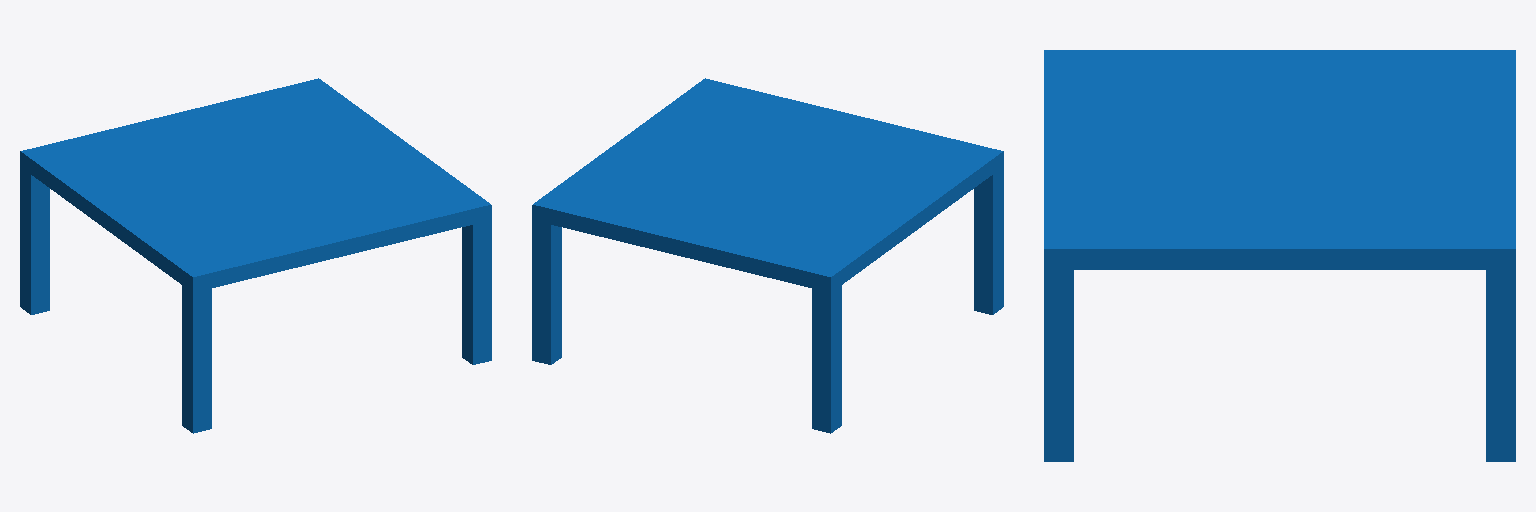
URDF robot description (cube):
<?xml version="0.0" ?>
<robot name="cube">
  <link name="baseLink">
    <contact>
      <lateral_friction value="1.0"/>
      <rolling_friction value="0.0"/>
      <contact_cfm value="0.0"/>
      <contact_erp value="1.0"/>
    </contact>
    <inertial>
      <mass value="5.020"/>
      <origin rpy="0 0 0" xyz="0 0 0"/>
      <inertia ixx="3e-06" ixy="0" ixz="0" iyy="3e-06" iyz="0" izz="3e-06"/>
    </inertial>
    <visual>
      <origin rpy="0 0 0" xyz="0 0 0"/>
      <geometry>
        <mesh filename="mesa4.obj" />
      </geometry>
      <material name="white">
        <color rgba="0.1 0.5 0.8 1"/>
      </material>
    </visual>
    <collision>
      <origin rpy="0 0 0" xyz="0 0 0"/>
      <geometry>
        <mesh filename="mesa4.obj"/>
      </geometry>
    </collision>
  </link>
</robot>

--- What the picture shows (computed from the rendered views, not written in the file) ---
Views: 3 orthographic renders of the robot side by side, from view 1: azimuth 30°, elevation 25°; view 2: azimuth 150°, elevation 25°; view 3: azimuth 270°, elevation 25°.
Model cube with 1 links and 0 joints (none), rooted at baseLink, posed all joints at 0.
Links seen in each view (by area): view 1: baseLink; view 2: baseLink; view 3: baseLink.
Link boxes in pixels (x1,y1,x2,y2): baseLink: (20, 78, 491, 433); baseLink: (532, 78, 1003, 433); baseLink: (1044, 50, 1515, 461).
Size in the robot's own frame: 800 by 800 by 400 metres.
Meshes: 1 distinct files referenced, 1 mesh visuals loaded (1 OBJ).